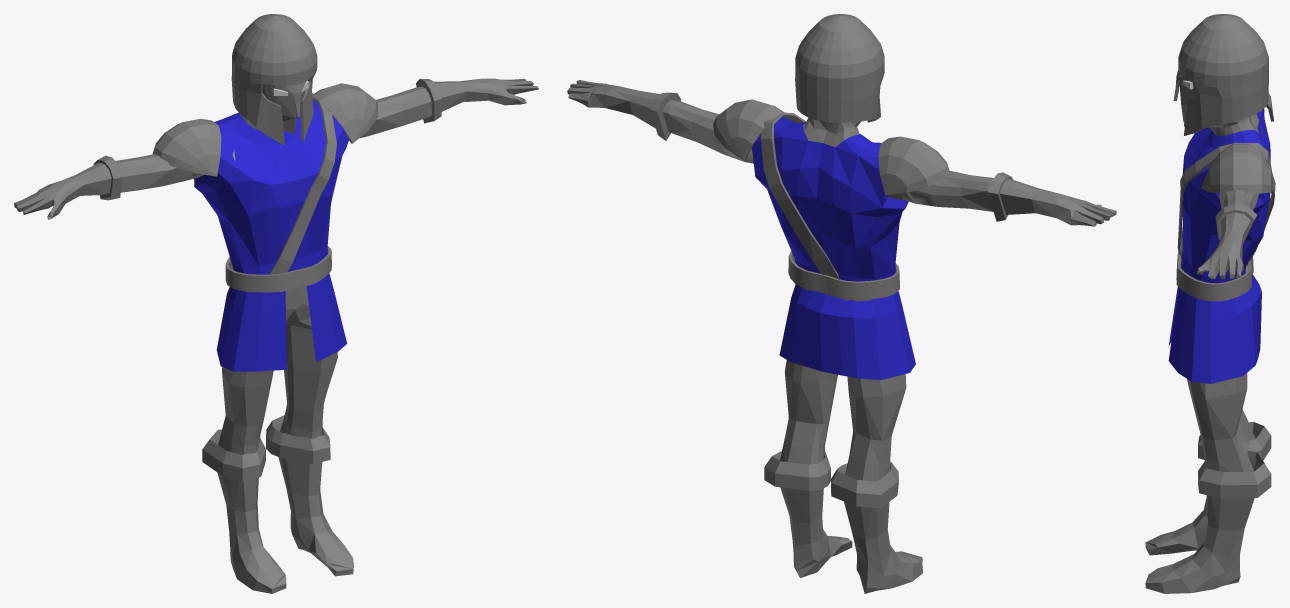
Rendered from SM_creep.fbx.
The picture shows the model from 3 angles, left to right: view 1: azimuth 30°, elevation 25°; view 2: azimuth 150°, elevation 25°; view 3: azimuth 270°, elevation 25°; orthographic projection. The views are drawn at different scales.
Visible parts, largest first — view 1: Object1284368; view 2: Object1284368; view 3: Object1284368.
Boxes of the visible parts, x1=… form: Object1284368: x1=14, y1=14, x2=538, y2=593; Object1284368: x1=567, y1=14, x2=1116, y2=593; Object1284368: x1=1145, y1=14, x2=1275, y2=593.
Size of the model in its own units: 69.49 by 14.88 by 69.78.
